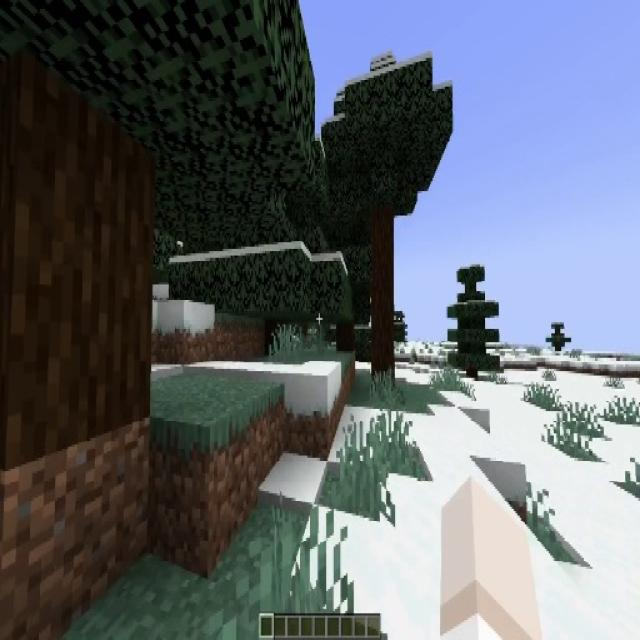spruce: (326, 60, 453, 380)
spruce_log: (0, 64, 153, 436), (446, 265, 499, 379), (372, 217, 394, 384), (546, 322, 571, 353), (336, 324, 354, 350)
